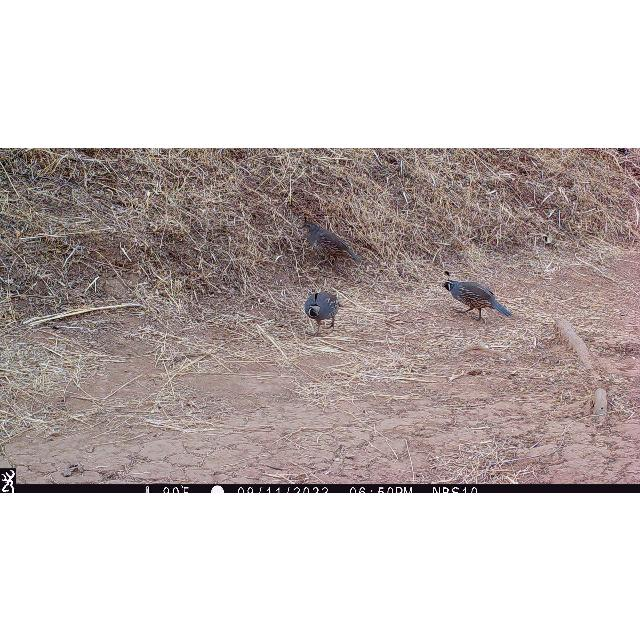animals: (442, 269, 514, 321), (300, 216, 362, 268), (305, 290, 343, 334)
